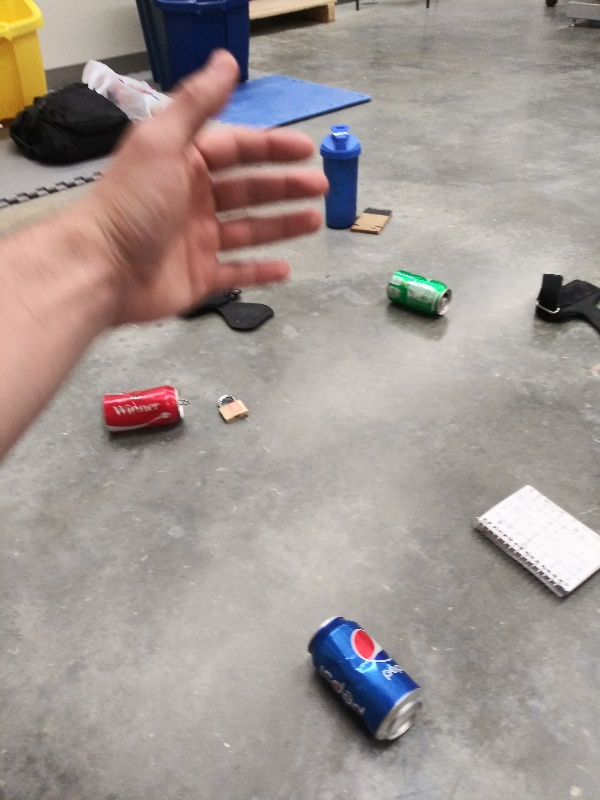can: (307, 613, 426, 748), (92, 382, 198, 445), (383, 265, 456, 326)
